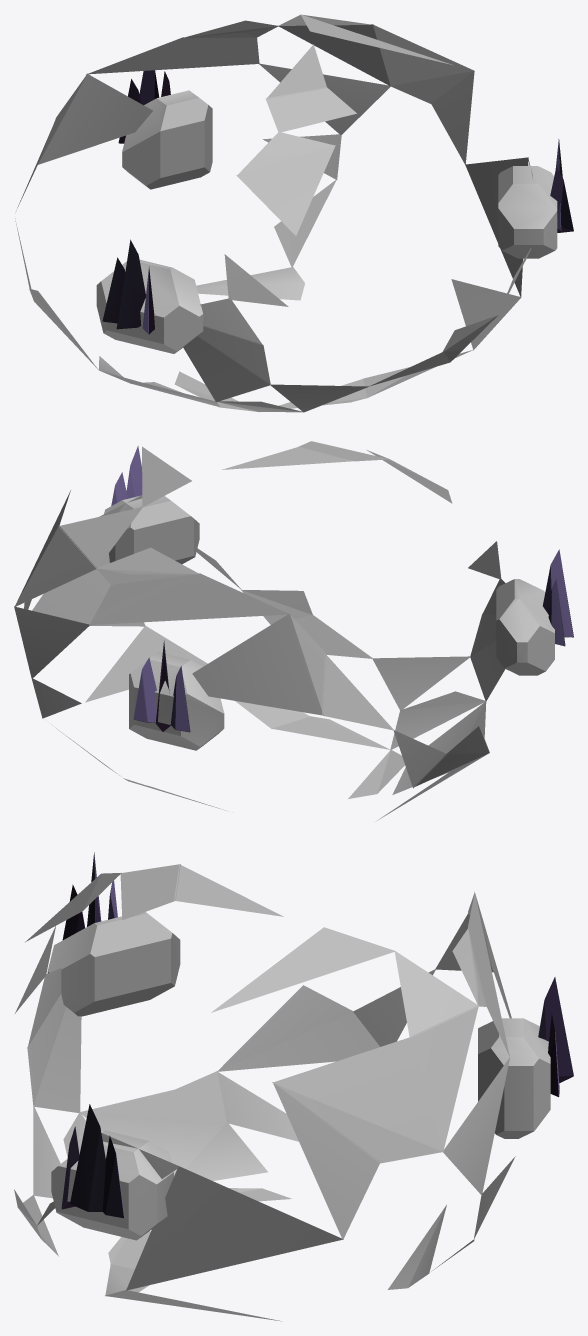
File: vein_rock_c_obsidian.glb
3 renders of one model, top to bottom at view 1: azimuth 30°, elevation 25°; view 2: azimuth 150°, elevation 25°; view 3: azimuth 270°, elevation 25°, orthographic. The views are drawn at different scales.
Bounding box in the file's own units: 1.63 × 1 × 1.41.
